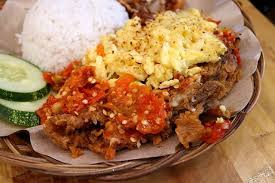ayam_geprek: (52, 12, 246, 157)
